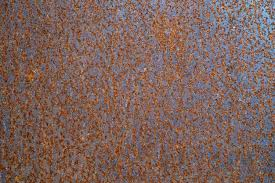rust: (1, 1, 274, 181)
